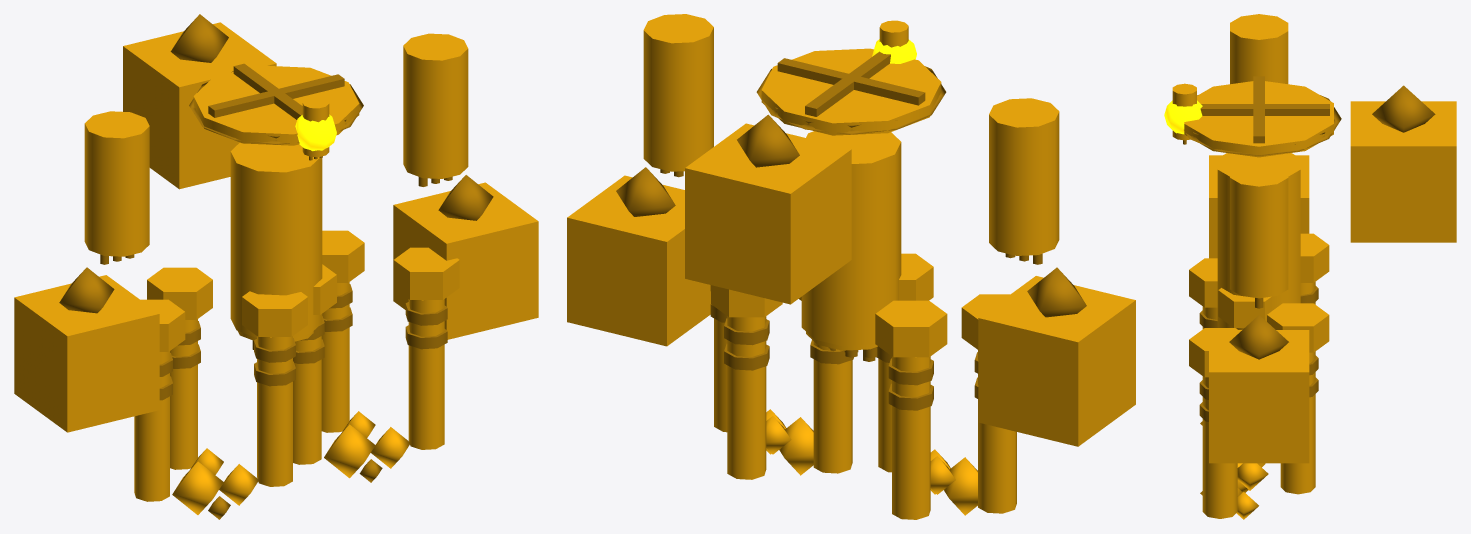
File: golem_032.glb
3 renders of one model, left to right at view 1: azimuth 30°, elevation 25°; view 2: azimuth 150°, elevation 25°; view 3: azimuth 270°, elevation 25°, orthographic. The views are drawn at different scales.
Parts seen in each view (by area): view 1: Body, Detail, Glow; view 2: Body, Detail, Glow; view 3: Body, Detail, Glow.
Boxes of the visible parts, x1,y1,x2,y2 form: Body: (14, 22, 538, 514); Detail: (59, 14, 493, 519); Glow: (295, 114, 336, 151); Body: (567, 14, 1135, 519); Detail: (616, 51, 1086, 410); Glow: (872, 39, 916, 63); Body: (1172, 14, 1456, 519); Detail: (1183, 76, 1435, 421); Glow: (1164, 100, 1202, 134).
Size of the model in its own units: 1.14 by 0.9587 by 0.6519.
